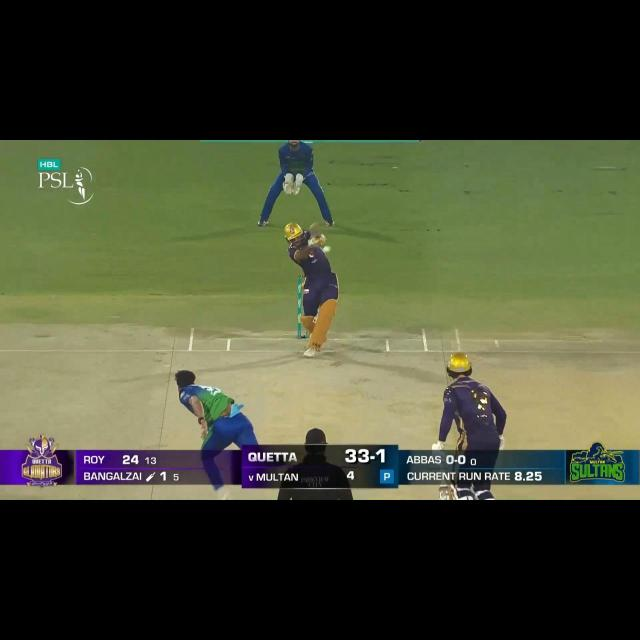bat: (438, 485, 456, 501), (309, 221, 323, 239)
toe: (308, 222, 322, 228)
